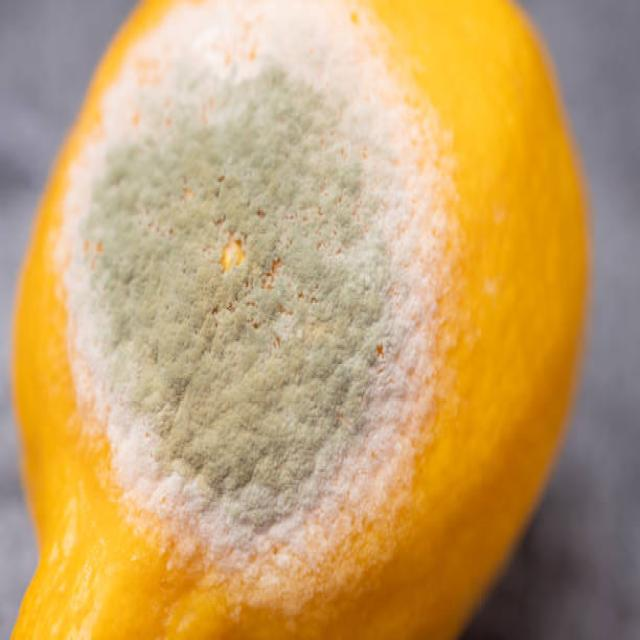Rotten: (11, 0, 596, 640)
